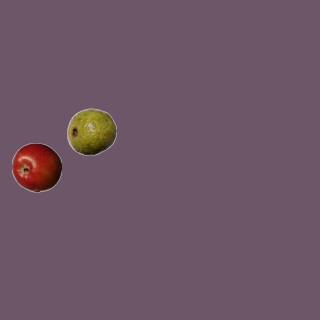Apple Braeburn: (11, 142, 61, 192)
Guava: (66, 106, 116, 156)
